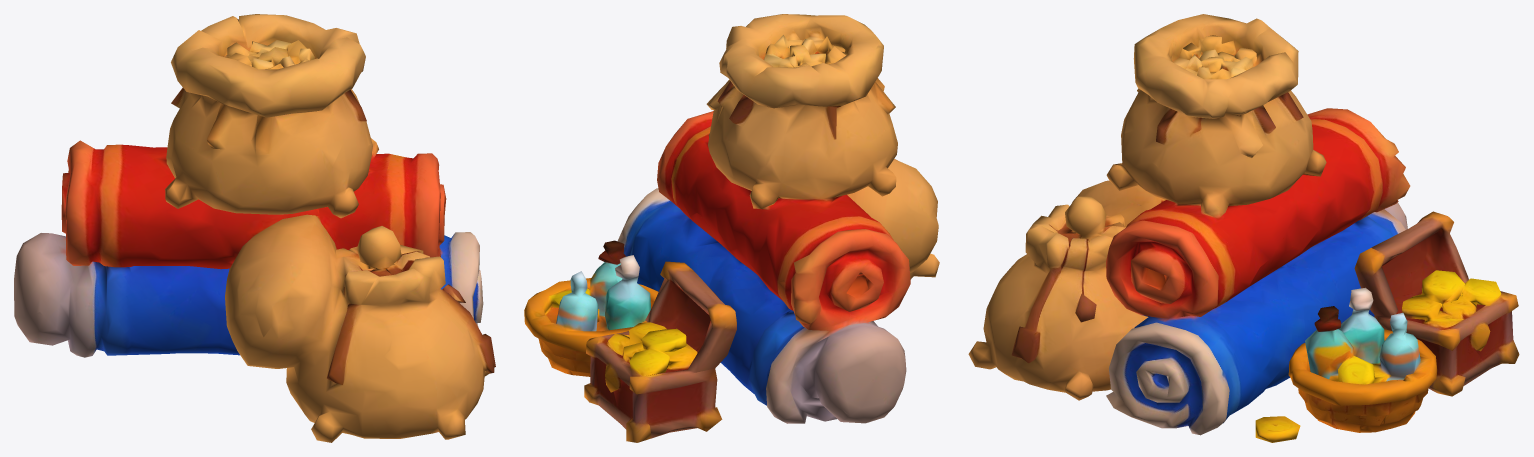
Rendered from merchant_goods-CVs5z9po.glb.
3 renders of one model, left to right at view 1: azimuth 30°, elevation 25°; view 2: azimuth 150°, elevation 25°; view 3: azimuth 270°, elevation 25°, orthographic. The views are drawn at different scales.
Visible parts, largest first — view 1: tripo_node_c1adfa2d-b5b0-4007-b7bf-365bf9ddbdc6; view 2: tripo_node_c1adfa2d-b5b0-4007-b7bf-365bf9ddbdc6; view 3: tripo_node_c1adfa2d-b5b0-4007-b7bf-365bf9ddbdc6.
Part boxes in pixels (x1,y1,x2,y2): tripo_node_c1adfa2d-b5b0-4007-b7bf-365bf9ddbdc6: (14, 14, 495, 442); tripo_node_c1adfa2d-b5b0-4007-b7bf-365bf9ddbdc6: (524, 14, 939, 442); tripo_node_c1adfa2d-b5b0-4007-b7bf-365bf9ddbdc6: (968, 14, 1519, 442).
Bounding box in the file's own units: 0.7614 × 0.6167 × 1.
1 material, 1 textured.
